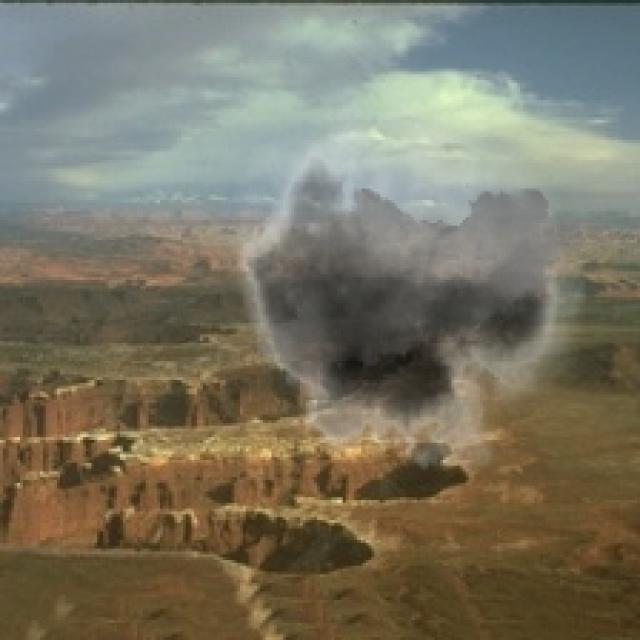smoke: (214, 77, 586, 492)
